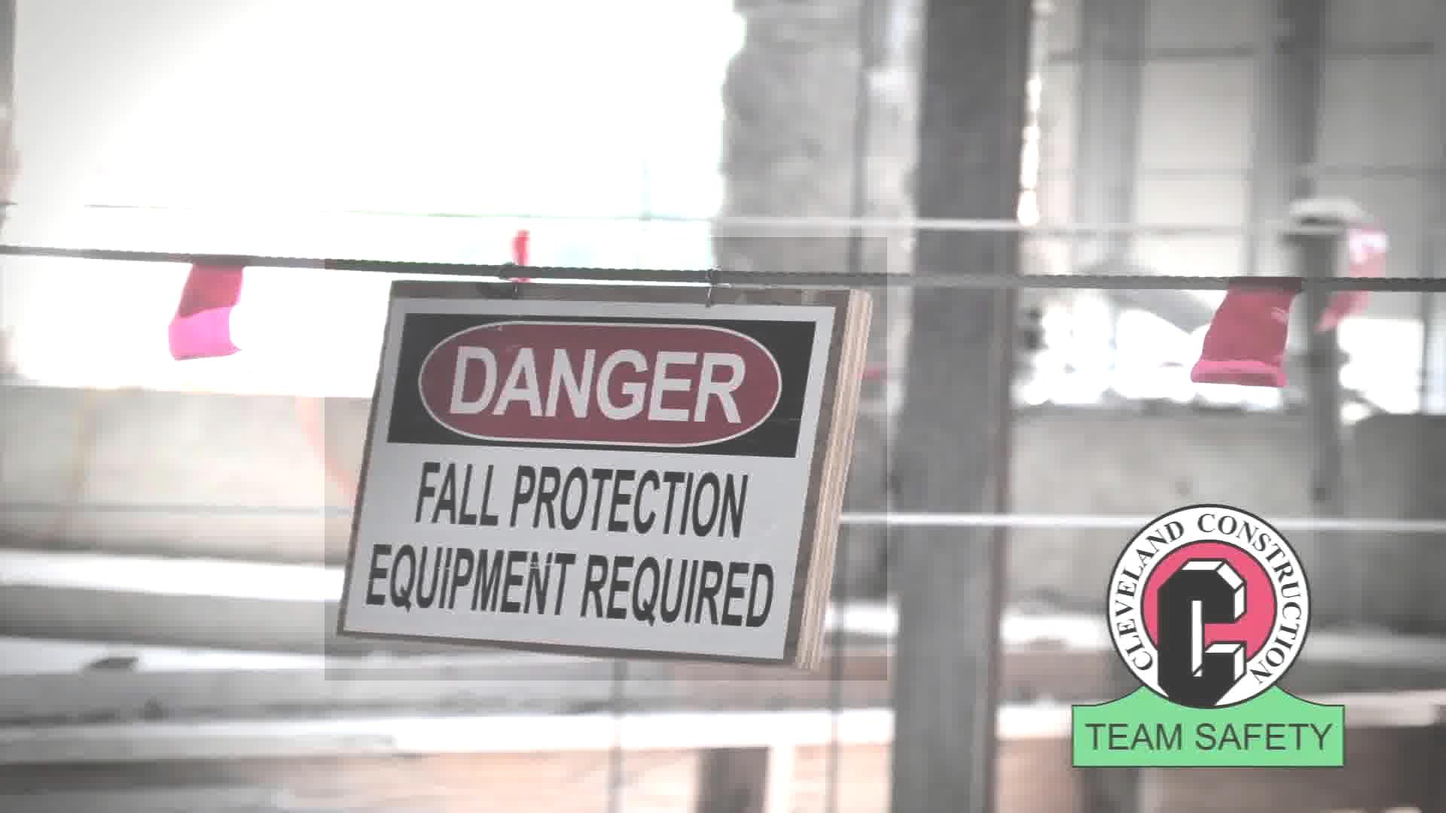safety_signage: (325, 237, 887, 681)
